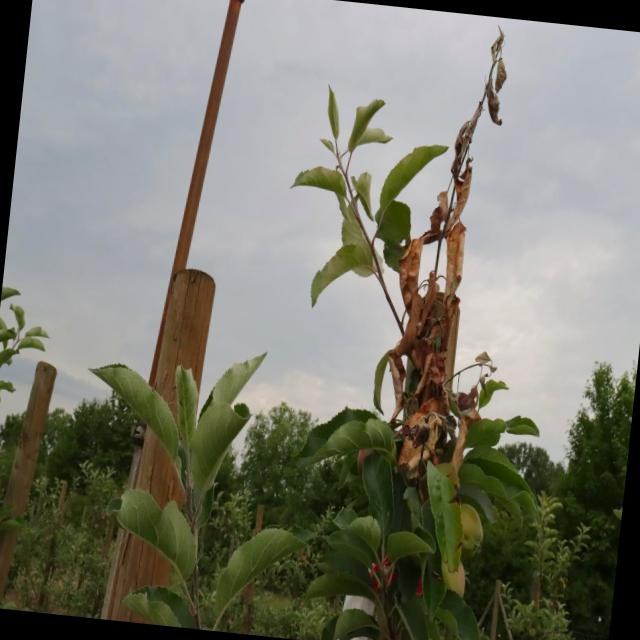-FireBlight-: (371, 137, 502, 472)
